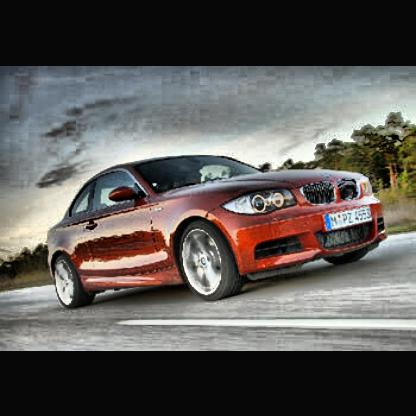BMW 1 Series Coupe 2012: (46, 154, 388, 309)
